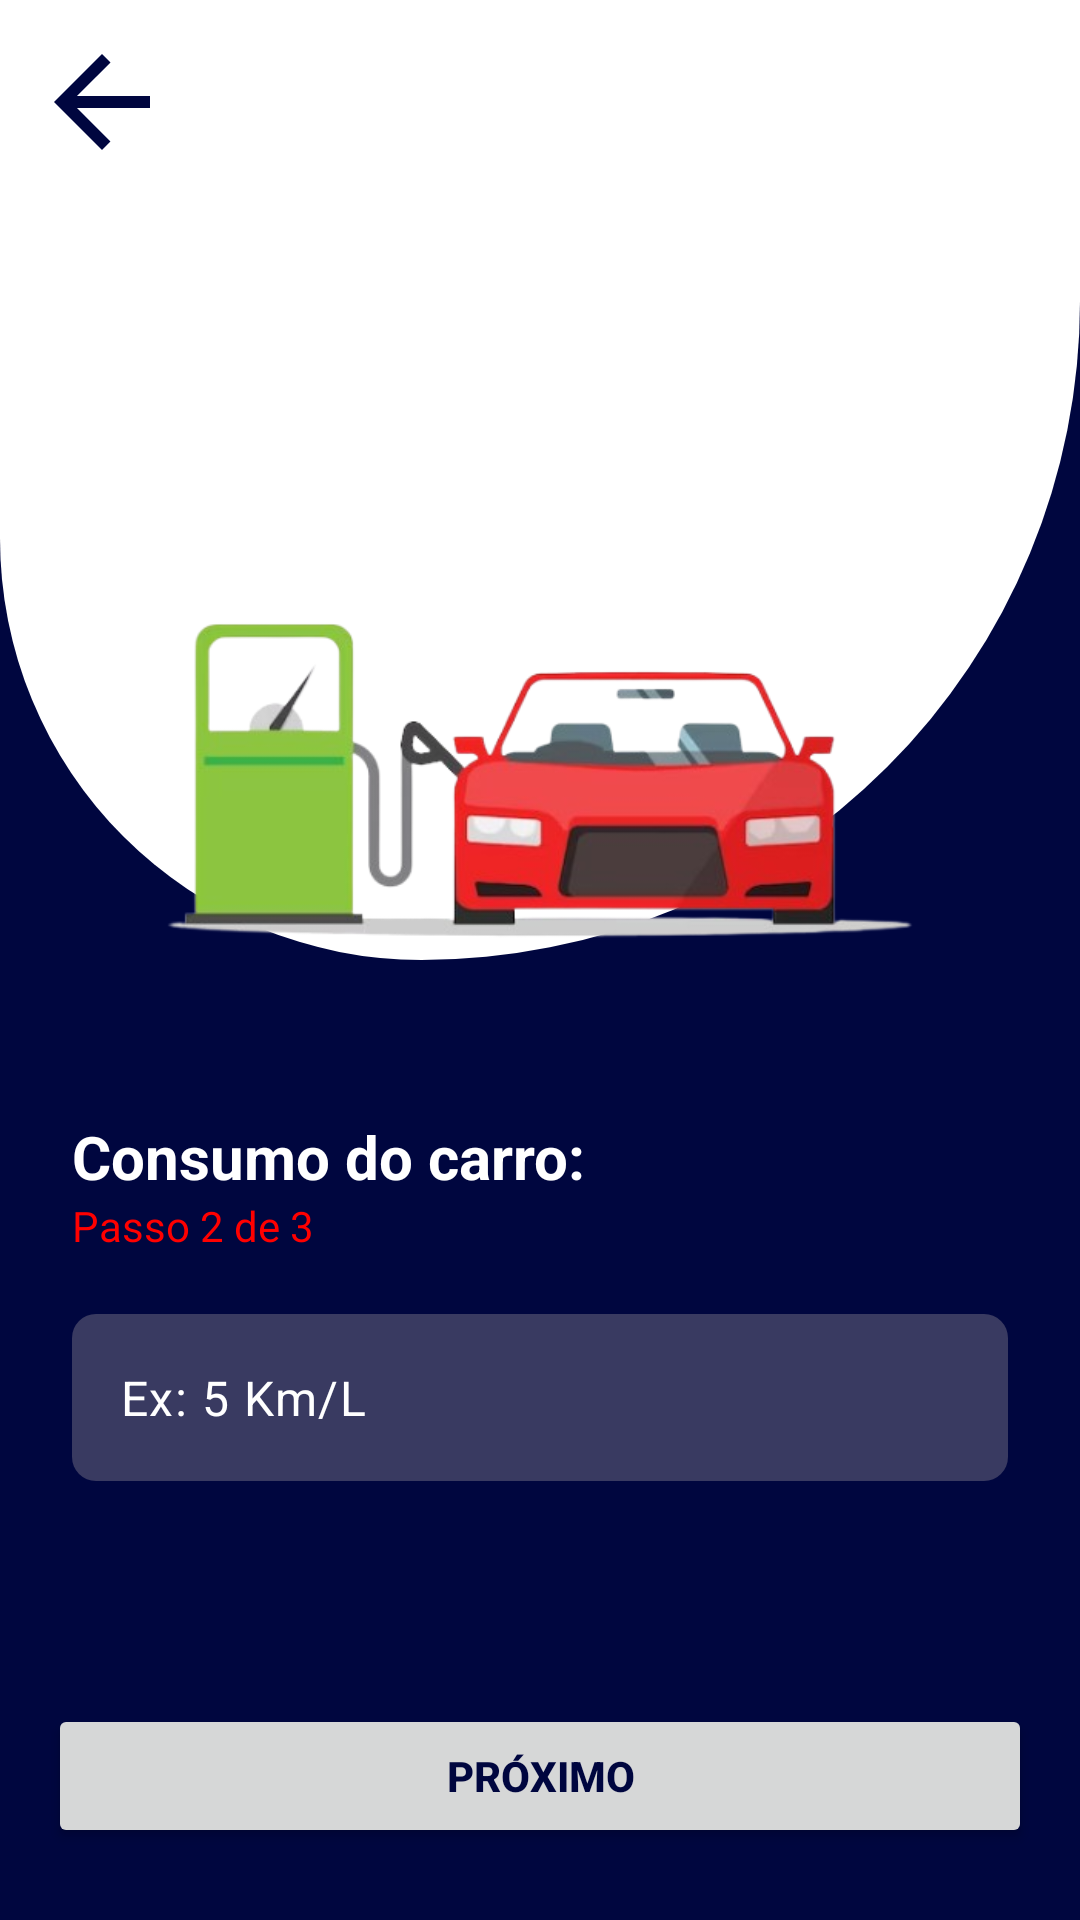

Screen size 1080px×1920px. Icon name, then its center in pixels as (x=x, y=y):
Botão voltar: (x=102, y=102)
